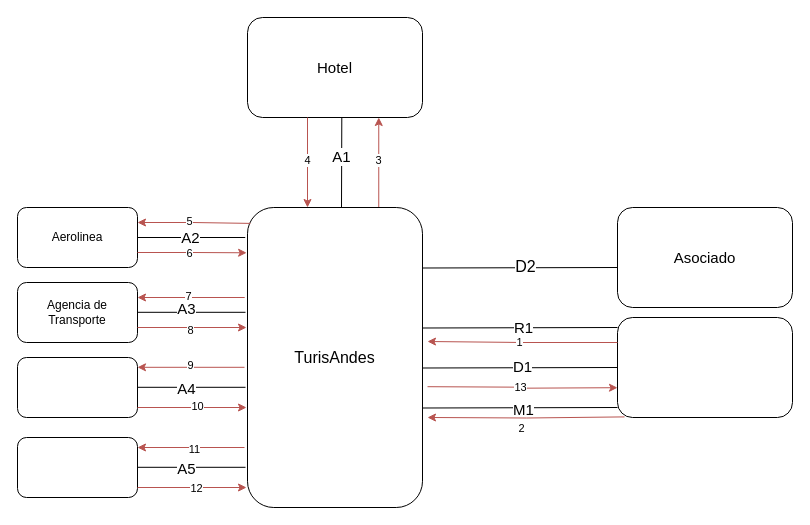
Image size: 810x525. Some labels were removed from this diagram. Here are the shapes that lost their labels. From the top down, the box of each, then its label:
(16, 356, 138, 418): Empresa de Comidas
(616, 316, 792, 418): Cliente
(16, 436, 138, 498): Agencia de Tours
